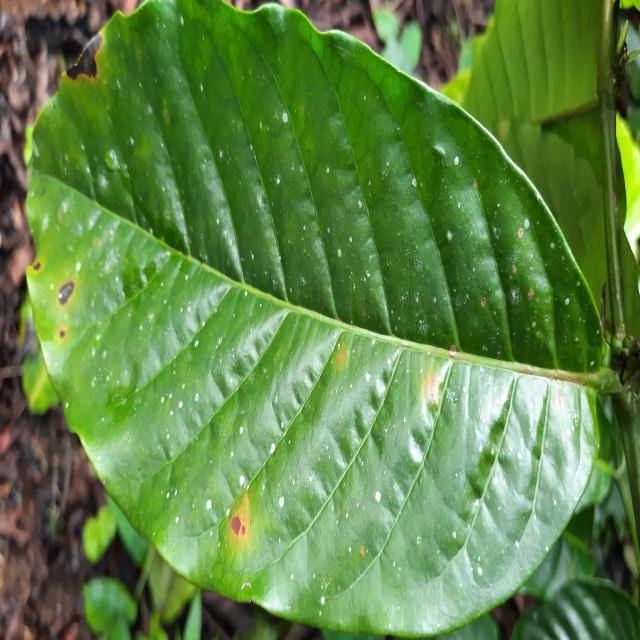Enfermedad-Mancha-de-hierro: (24, 0, 622, 640)
